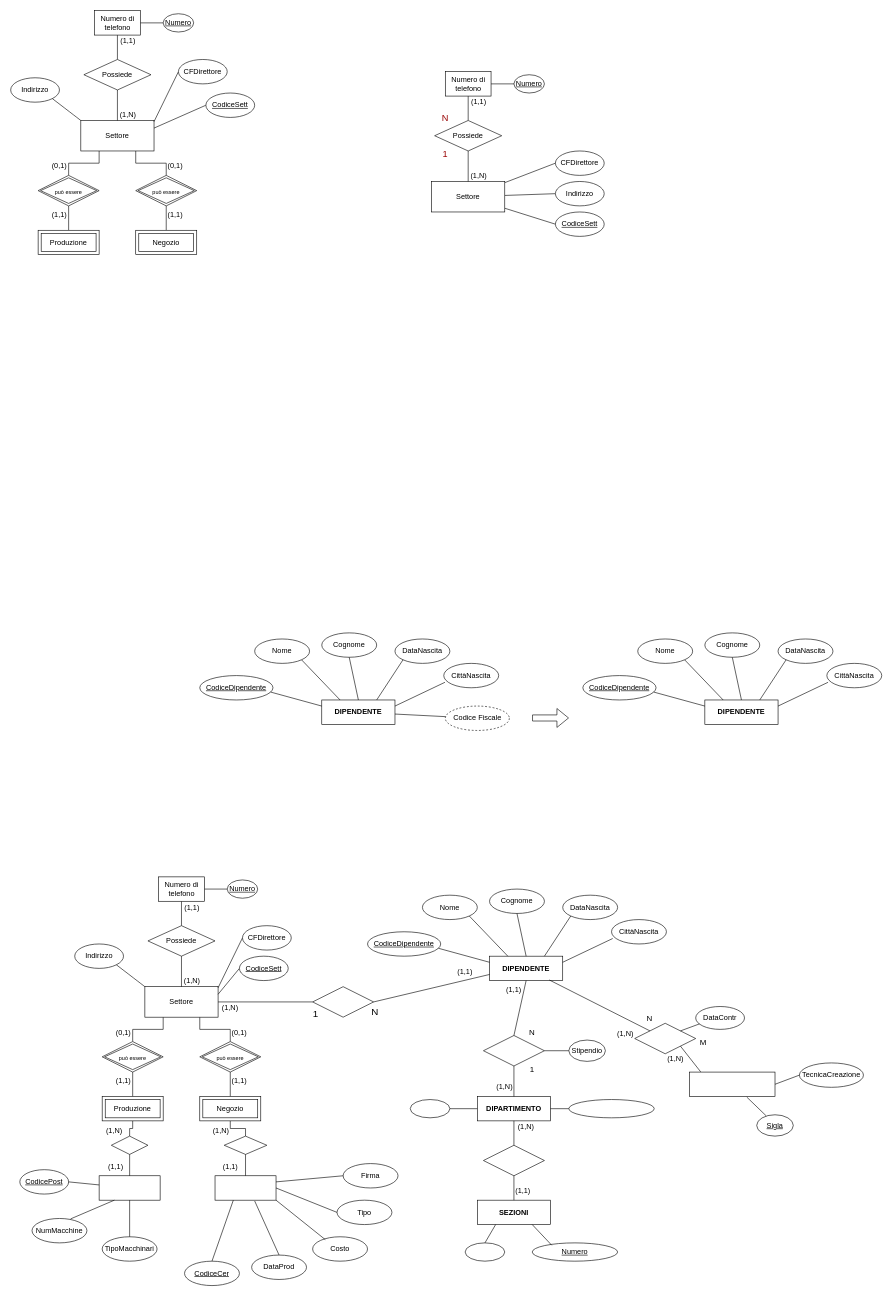
Image size: 892x1296. Some labels were removed from this diagram. Each missing label, with the box of its shape:
Assume: (312, 986, 374, 1017)
CERAMICA: (214, 1175, 276, 1200)
CERAMICA IN CREAZIONE: (689, 1071, 775, 1096)
CF_Direttore_Dip: (568, 1099, 654, 1118)
Codice: (410, 1099, 450, 1118)
Controlla: (634, 1023, 696, 1054)
DivisoIn: (483, 1145, 544, 1176)
Ha: (111, 1136, 148, 1154)
LavoraPer: (483, 1035, 544, 1066)
Lettera: (465, 1242, 505, 1261)
POSTAZIONE: (99, 1175, 160, 1200)
Vende: (224, 1136, 267, 1154)
